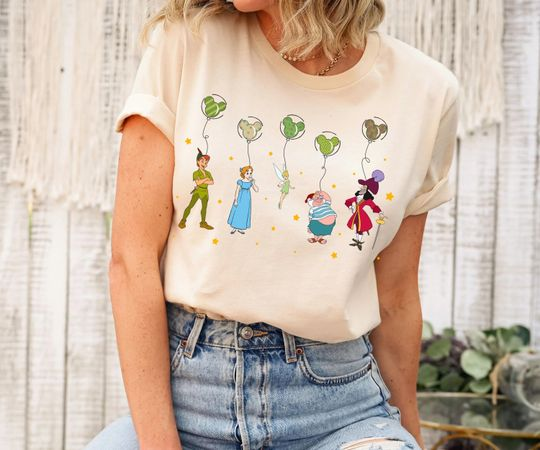design: (175, 90, 398, 261)
